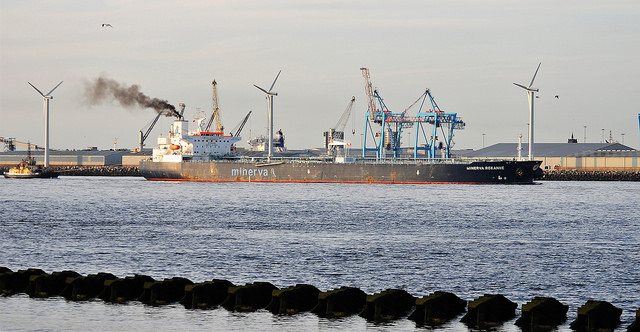tanker: (135, 117, 537, 188)
tug_boat: (4, 141, 63, 182)
